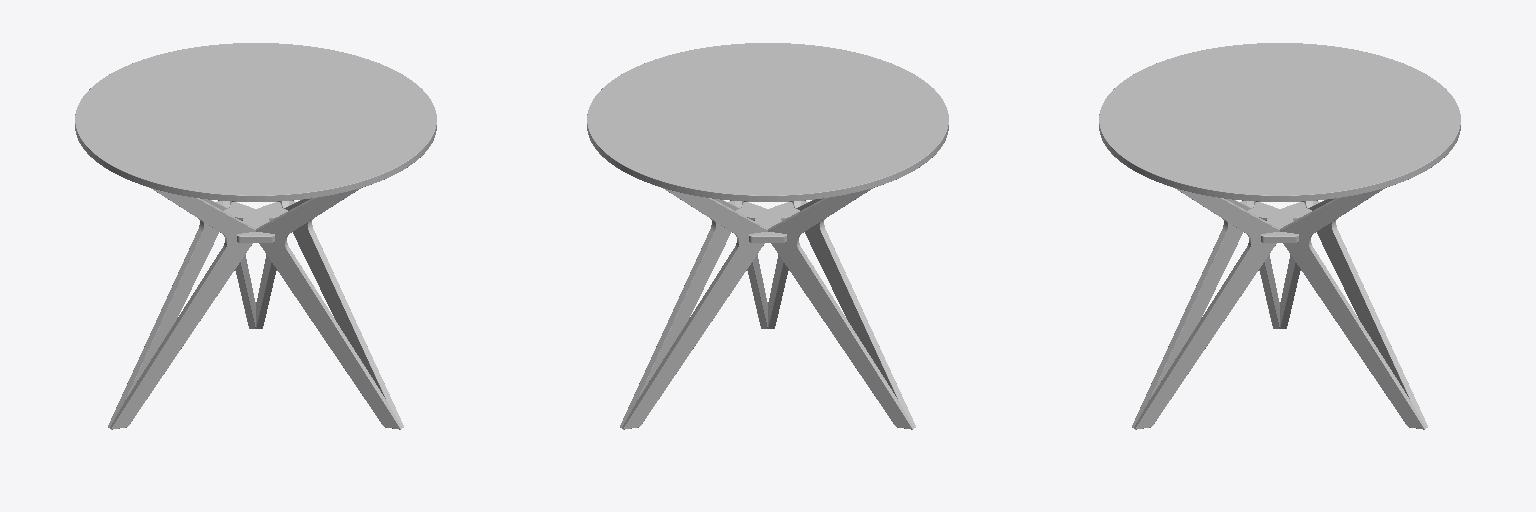
The model's file is table.obj.
3 views of the same model, side by side, from view 1: azimuth 30°, elevation 25°; view 2: azimuth 150°, elevation 25°; view 3: azimuth 270°, elevation 25° (orthographic).
Parts seen in each view (by area): view 1: table; view 2: table; view 3: table.
Boxes of the visible parts, x1=… form: table: x1=75, y1=43, x2=436, y2=429; table: x1=587, y1=43, x2=948, y2=429; table: x1=1099, y1=43, x2=1460, y2=429.
Size of the model in its own units: 1.4 by 1.17 by 1.4.